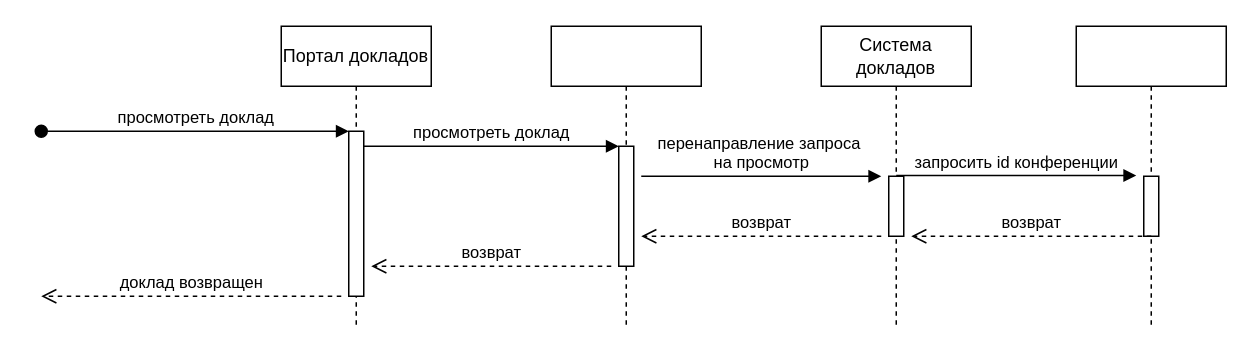
The diagram is 1253 pixels wide and 353 high, and some of its shapes have lost their labels. Here are the shapes that lost their labels. From the top down, the centre of each, then its label:
At point (625, 175): "Балансировщик нагрузки".
At point (1150, 175): "Система конференций".
